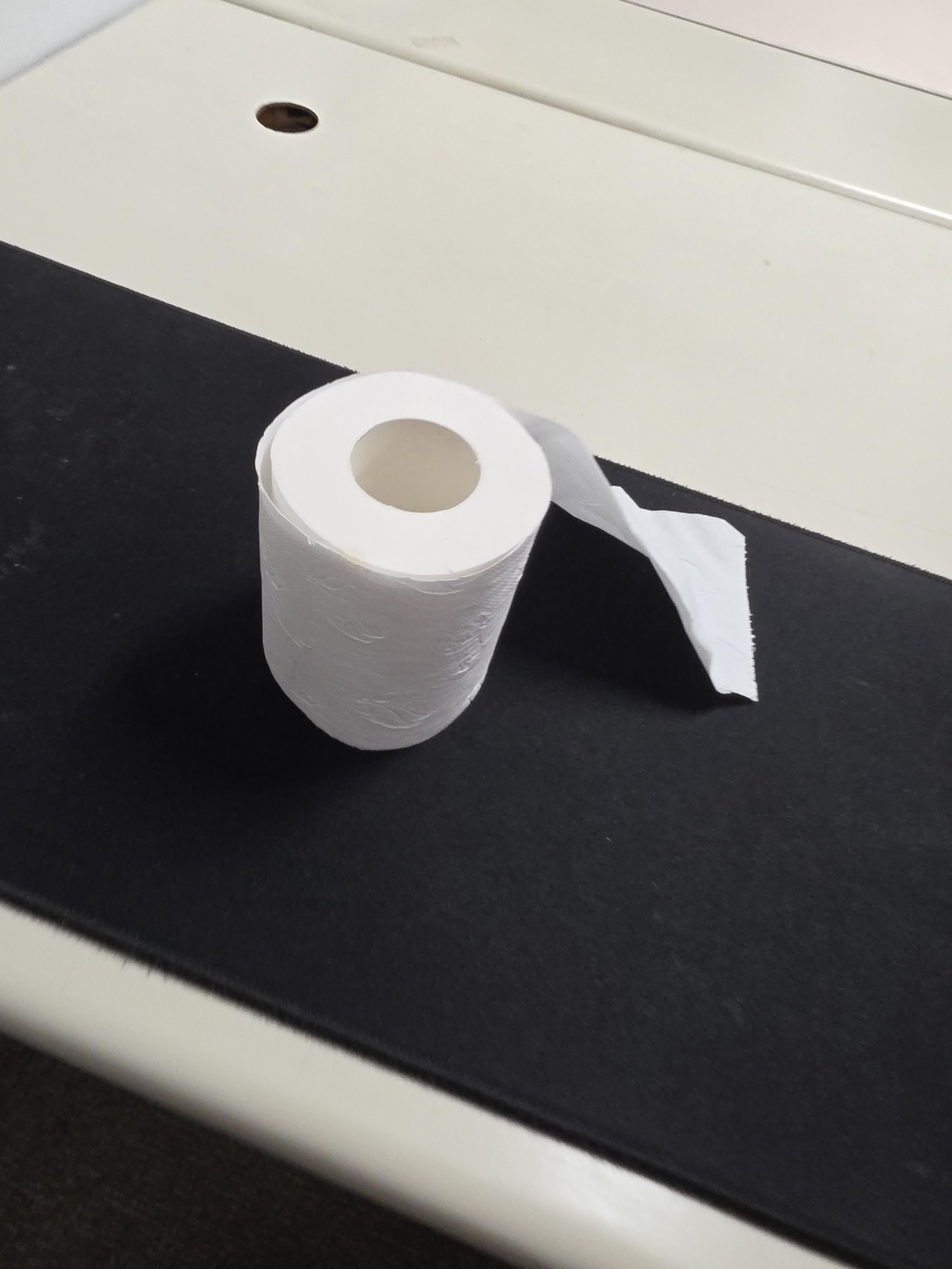tissue: (255, 370, 759, 751)
